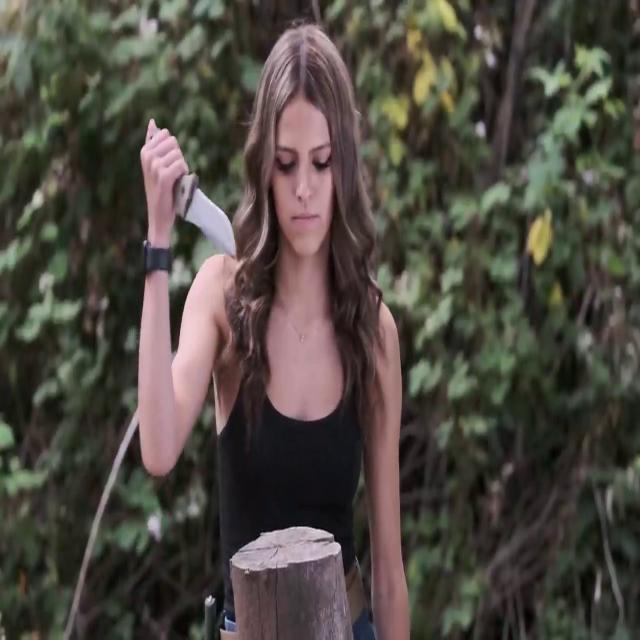Knife: (145, 144, 245, 263)
